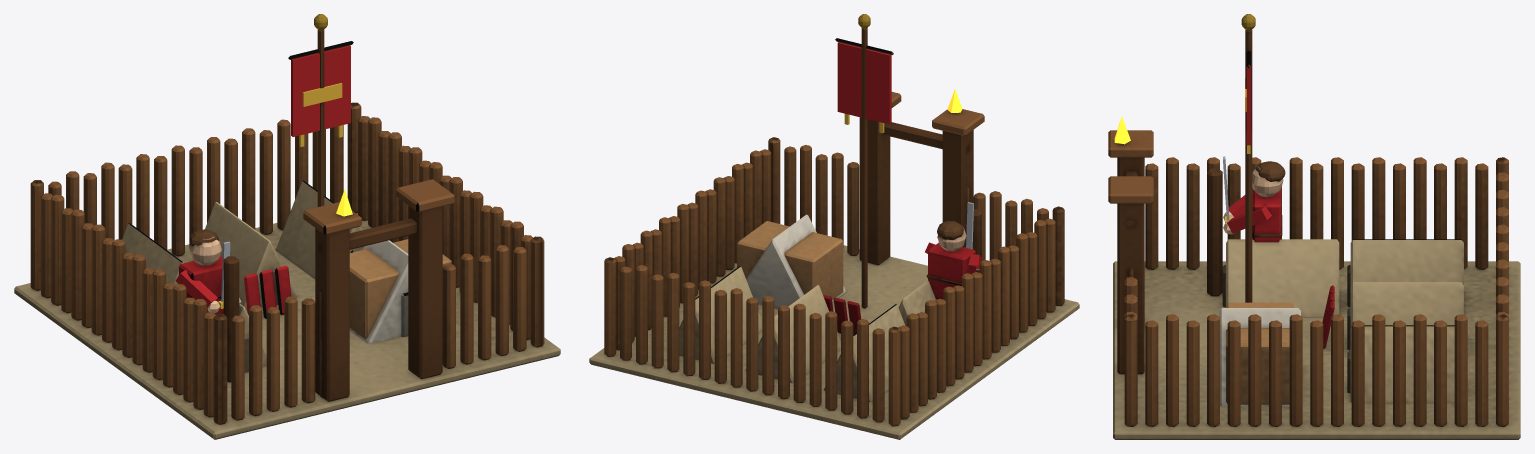
The model's file is koszary.glb.
3 renders of one model, left to right at view 1: azimuth 30°, elevation 25°; view 2: azimuth 150°, elevation 25°; view 3: azimuth 270°, elevation 25°, orthographic. The views are drawn at different scales.
Parts seen in each view (by area): view 1: koszary, anim_kolys_sztandar_1, anim_mlot_legionista; view 2: koszary, anim_kolys_sztandar_1, anim_mlot_legionista; view 3: koszary, anim_mlot_legionista, anim_kolys_sztandar_1.
Part boxes in pixels (box(x1,y1,x2,y2)): koszary: box(14, 14, 560, 439); anim_kolys_sztandar_1: box(291, 45, 350, 147); anim_mlot_legionista: box(175, 241, 241, 312); koszary: box(589, 14, 1079, 439); anim_kolys_sztandar_1: box(837, 42, 891, 133); anim_mlot_legionista: box(925, 202, 981, 270); koszary: box(1108, 14, 1520, 439); anim_mlot_legionista: box(1223, 156, 1271, 234); anim_kolys_sztandar_1: box(1245, 66, 1250, 153).
Size of the model in its own units: 1.8 by 1.66 by 1.82.
Materials: 6 (1 with a texture image).
